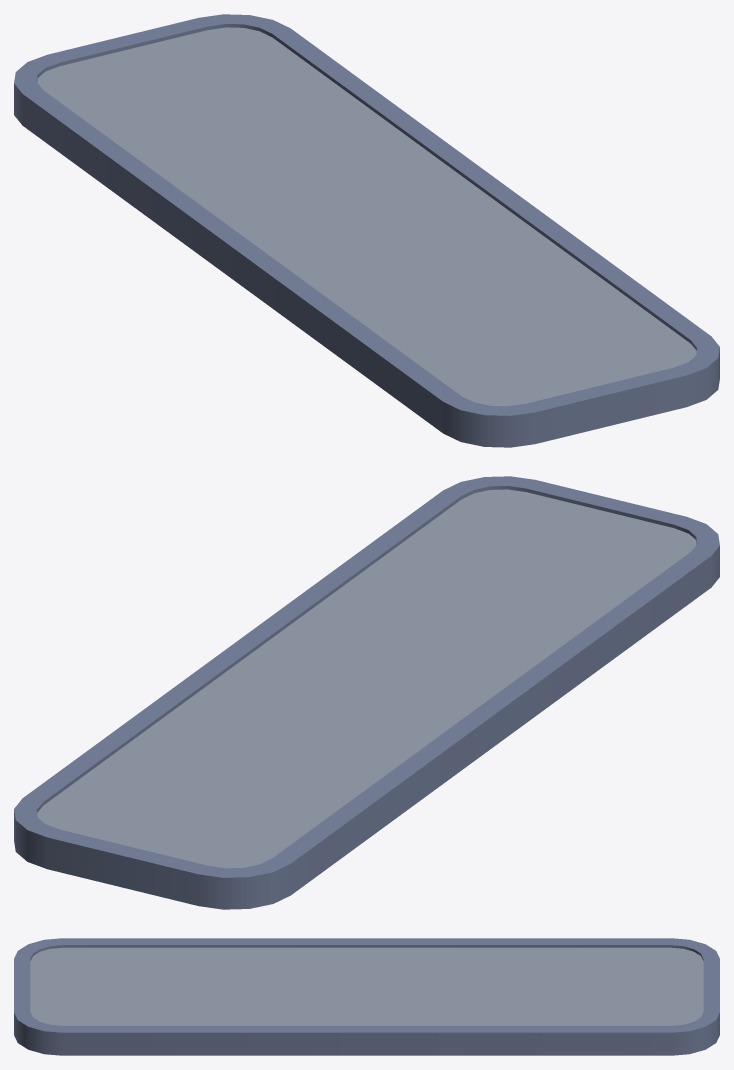
Rendered from BoardWalk.fbx.
3 views of the same model, one above another, from view 1: azimuth 30°, elevation 25°; view 2: azimuth 150°, elevation 25°; view 3: azimuth 270°, elevation 25° (orthographic). The views are drawn at different scales.
Parts seen in each view (by area): view 1: Cube.001; view 2: Cube.001; view 3: Cube.001.
Part boxes in pixels (x1=…): Cube.001: x1=14, y1=14, x2=719, y2=447; Cube.001: x1=14, y1=476, x2=719, y2=909; Cube.001: x1=14, y1=938, x2=719, y2=1055.
Bounding box in the file's own units: 1765 × 200 × 5567.
